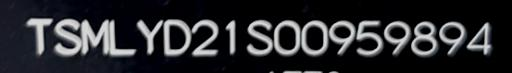letter: (23, 15, 55, 58), (352, 17, 386, 56), (50, 17, 82, 58), (134, 16, 164, 59), (161, 17, 193, 56), (78, 18, 110, 57), (107, 17, 137, 58), (190, 17, 220, 58), (409, 18, 439, 57), (272, 18, 302, 55), (382, 19, 412, 56), (437, 20, 467, 57), (464, 21, 494, 58), (246, 18, 274, 57), (300, 18, 328, 57), (328, 19, 356, 56), (221, 17, 239, 56)
